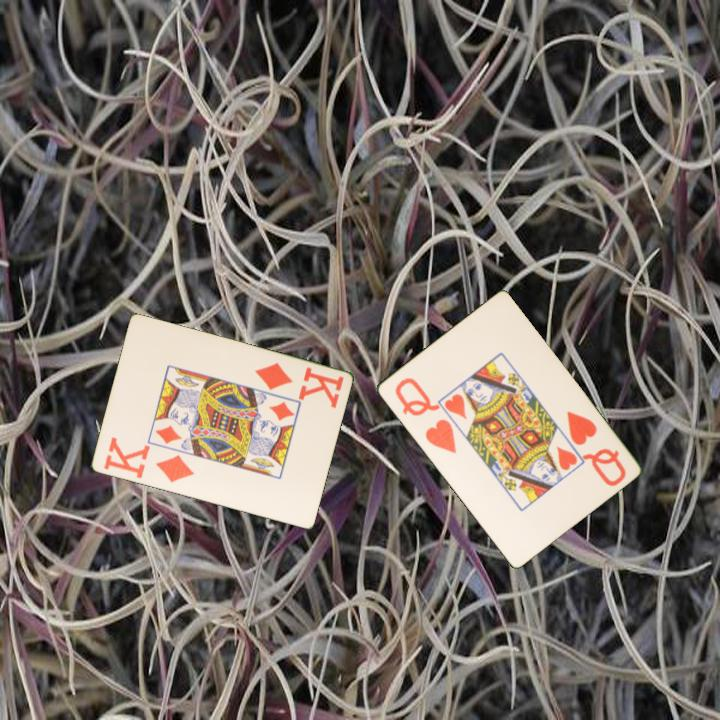Kd: (100, 434, 197, 486), (251, 359, 346, 410)
Qh: (391, 374, 459, 456), (562, 407, 629, 489)
